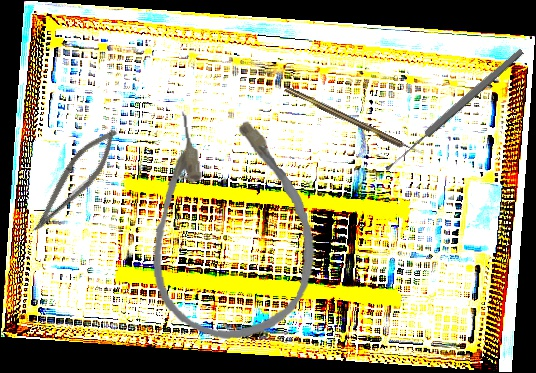Cannula: (138, 100, 323, 345)
Hook Surgical: (284, 85, 423, 158)
Micro Scissor: (24, 118, 126, 245)
Surgical Spoon: (382, 47, 526, 173)
